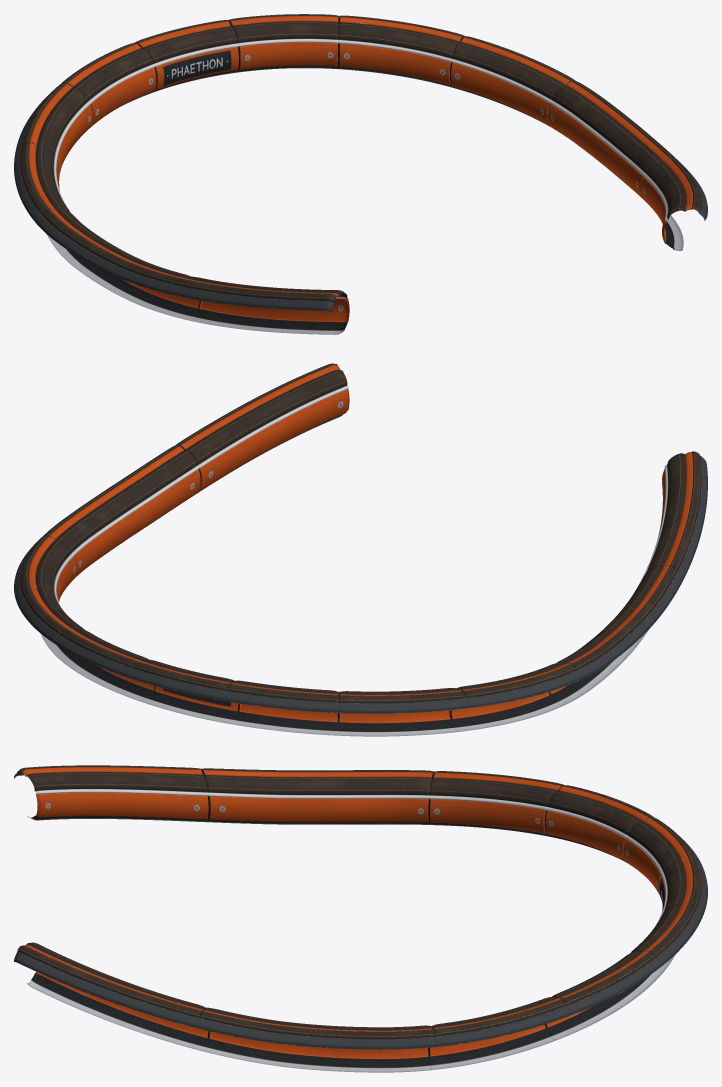
The model's file is coaming_hd.glb.
3 renders of one model, top to bottom at view 1: azimuth 30°, elevation 25°; view 2: azimuth 150°, elevation 25°; view 3: azimuth 270°, elevation 25°, orthographic.
Parts seen in each view (by area): view 1: Coaming; view 2: Coaming; view 3: Coaming.
Boxes of the visible parts, x1,y1,x2,y2 form: Coaming: (14,14,707,334); Coaming: (14,363,707,736); Coaming: (14,765,707,1072).
Size of the model in its own units: 1.51 by 0.2332 by 1.63.
1 material, 1 textured.
